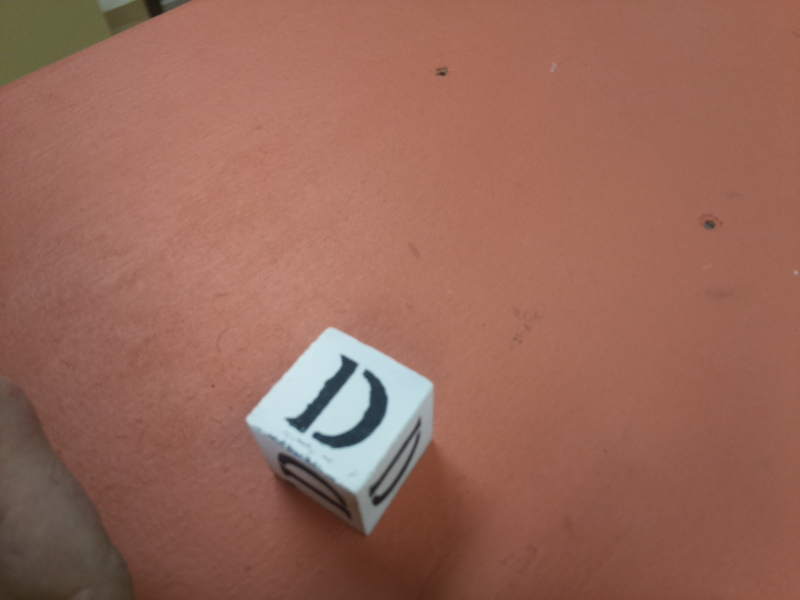blockD: (248, 325, 437, 543)
